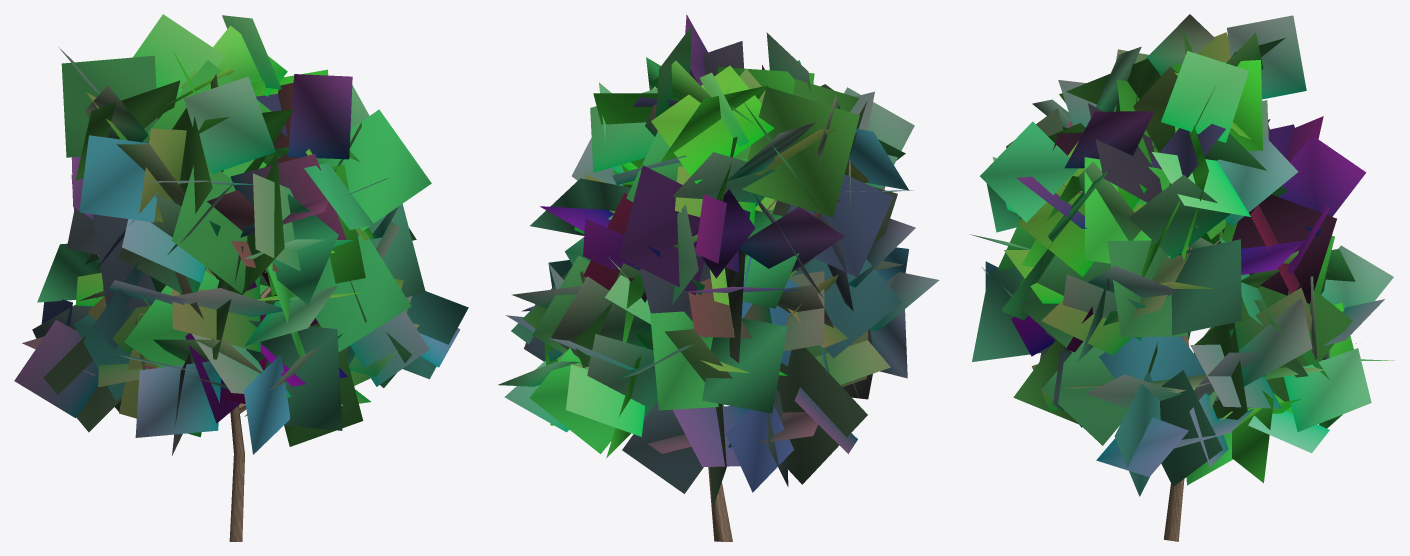
The model's file is RedMaple_v03_LOD2.fbx.
3 views of the same model, side by side, from view 1: azimuth 30°, elevation 25°; view 2: azimuth 150°, elevation 25°; view 3: azimuth 270°, elevation 25° (orthographic). The views are drawn at different scales.
Parts seen in each view (by area): view 1: Foliage, Bark; view 2: Foliage, Bark; view 3: Foliage, Bark.
Part boxes in pixels (x1,y1,x2,y2): Foliage: (14,14,468,455); Bark: (229,236,270,541); Foliage: (498,14,939,507); Bark: (708,200,776,541); Foliage: (970,14,1394,496); Bark: (1154,139,1222,541).
Bounding box in the file's own units: 12.94 × 16.35 × 12.68.
